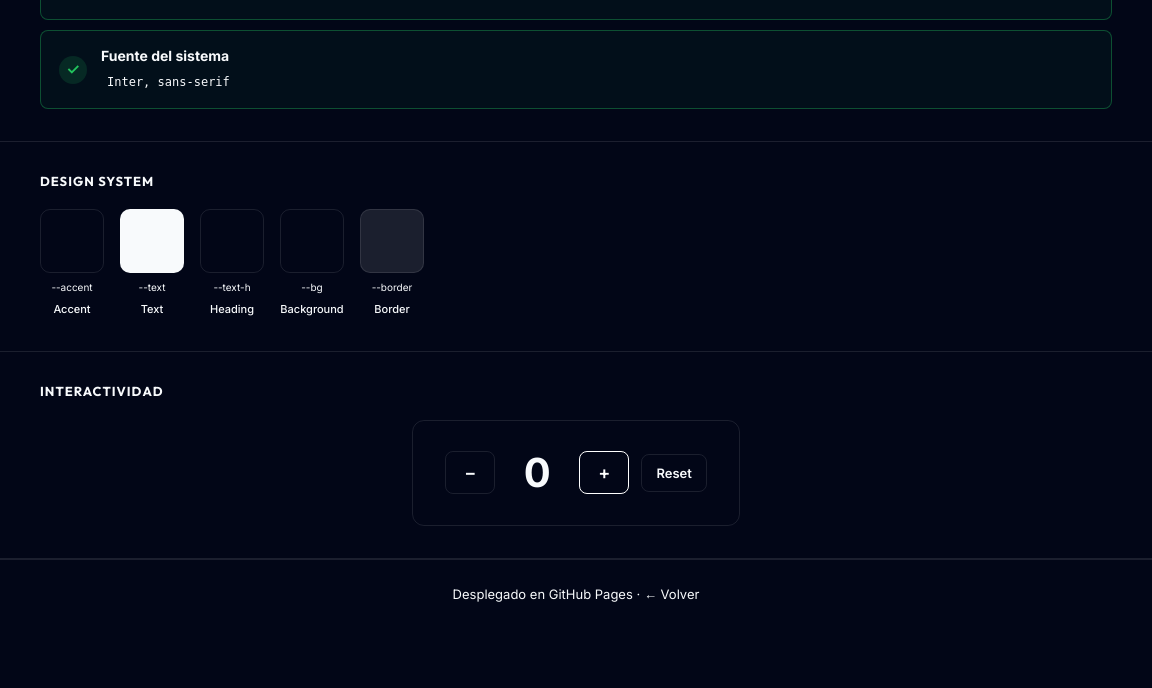
Scenario: TestPage › decrements counter when - button is clicked
(page scrolled)
Click the button "−".
click(470, 473)  # box [445, 451, 495, 494]
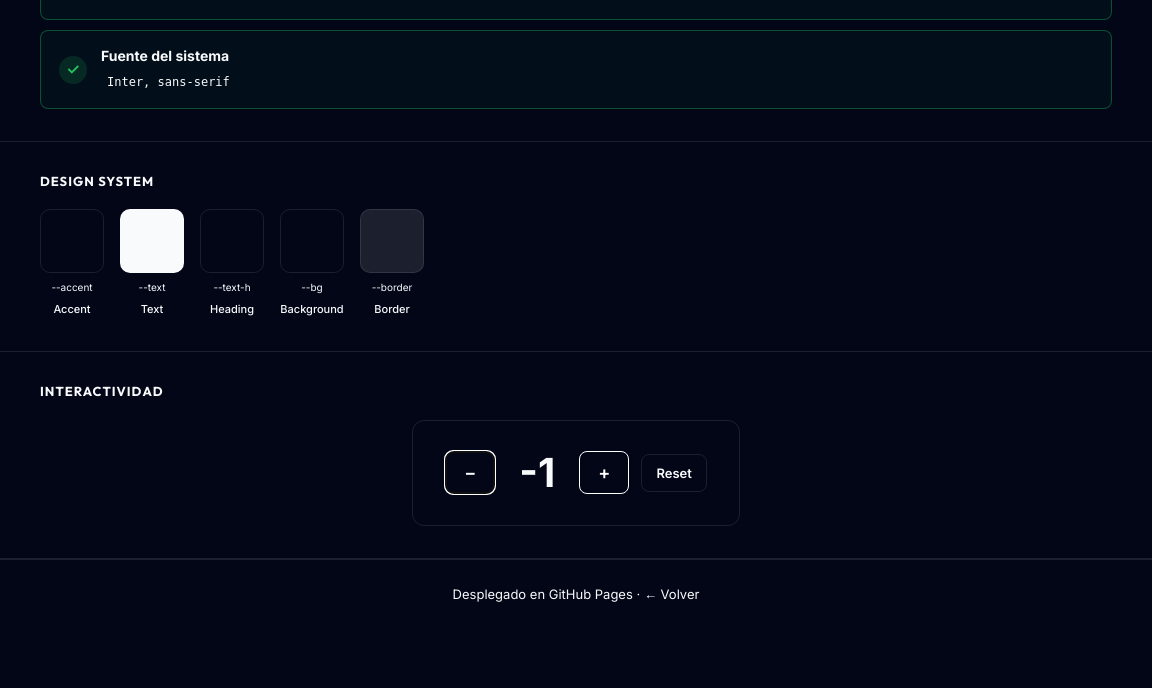
Check: the text "-1" is shown, box [519, 448, 555, 497]
